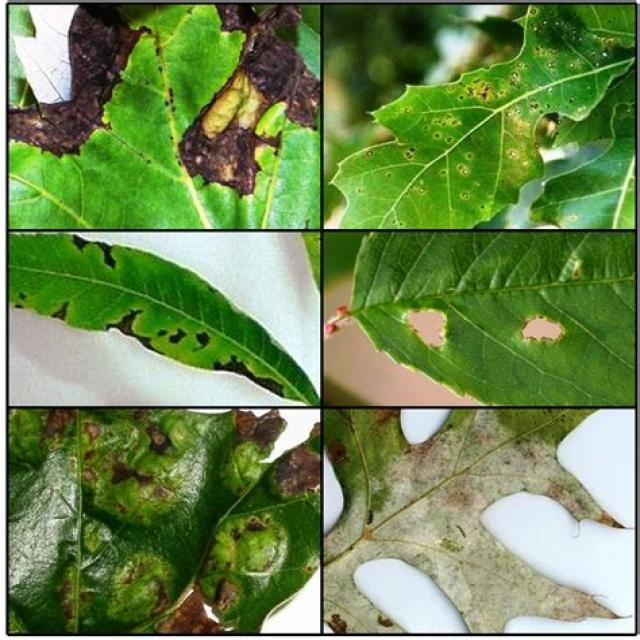blight: (178, 2, 335, 186), (2, 1, 149, 159), (142, 564, 248, 640)
